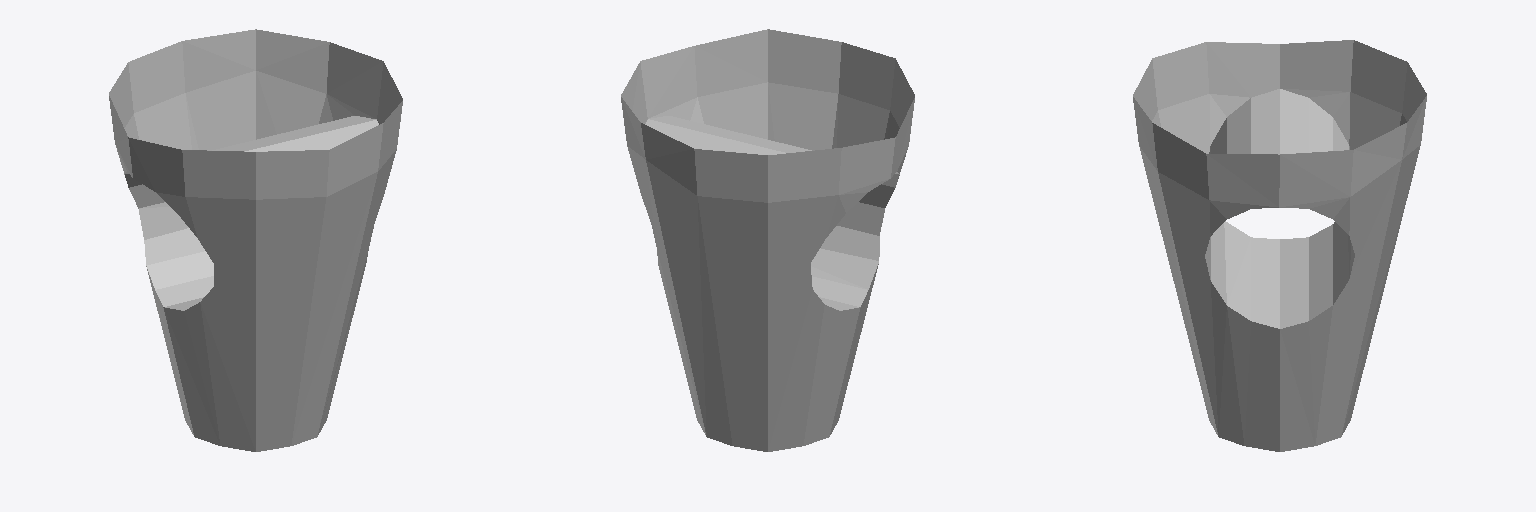
File: stone_pillar_hole.obj
3 renders of one model, left to right at view 1: azimuth 30°, elevation 25°; view 2: azimuth 150°, elevation 25°; view 3: azimuth 270°, elevation 25°, orthographic.
Parts seen in each view (by area): view 1: Cylinder; view 2: Cylinder; view 3: Cylinder.
Boxes of the visible parts, x1=… form: Cylinder: x1=109, y1=29, x2=402, y2=451; Cylinder: x1=621, y1=29, x2=914, y2=451; Cylinder: x1=1133, y1=40, x2=1426, y2=451.
Size of the model in its own units: 5.01 by 6.24 by 5.01.